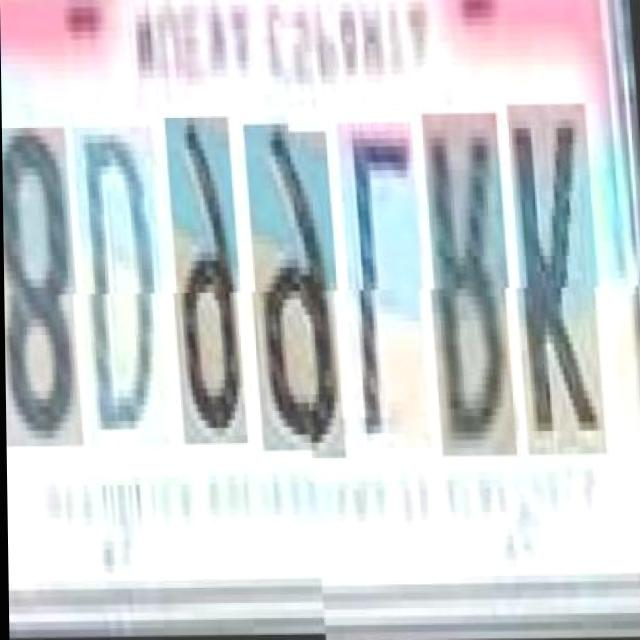8: (2, 128, 88, 448)
9: (249, 125, 351, 453), (170, 118, 253, 445)
d: (78, 126, 174, 446)
k: (512, 98, 611, 450)
l: (341, 116, 436, 443)
r: (426, 107, 521, 450)
